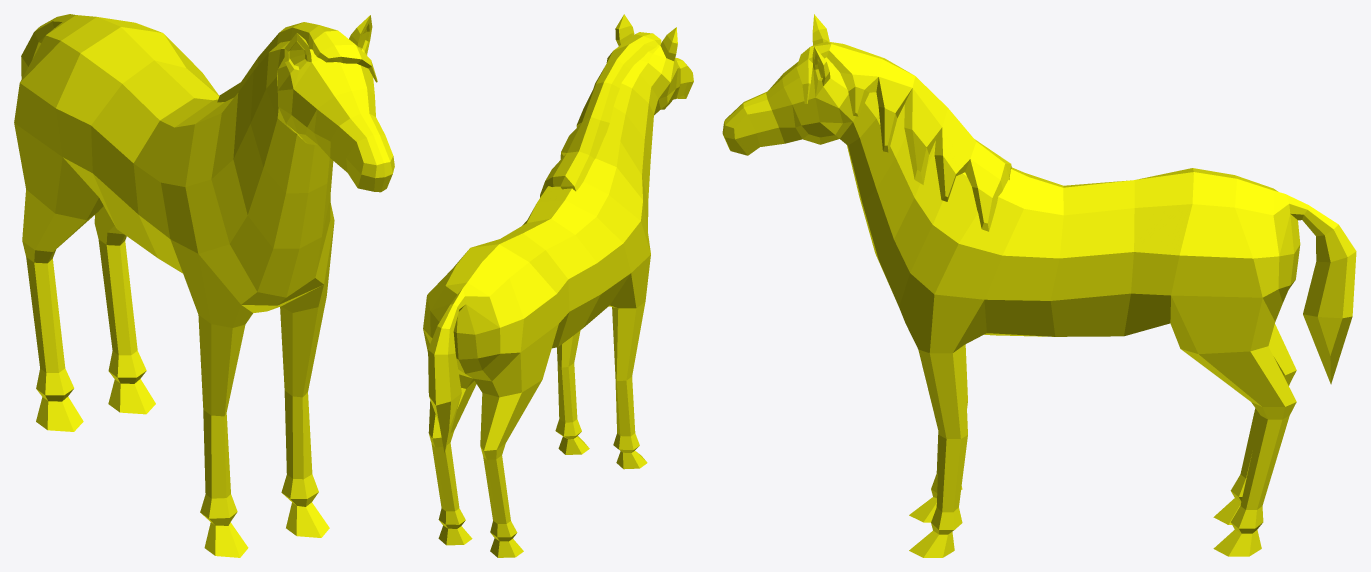
File: Horse.glb
The picture shows the model from 3 angles, left to right: view 1: azimuth 30°, elevation 25°; view 2: azimuth 150°, elevation 25°; view 3: azimuth 270°, elevation 25°; orthographic projection. The views are drawn at different scales.
Parts seen in each view (by area): view 1: WildHorse_mesh; view 2: WildHorse_mesh; view 3: WildHorse_mesh.
Boxes of the visible parts, x1,y1,x2,y2 form: WildHorse_mesh: (14, 14, 394, 557); WildHorse_mesh: (423, 14, 693, 557); WildHorse_mesh: (722, 14, 1356, 557).
Bounding box in the file's own units: 3.49 × 12.82 × 14.65.
1 material, 1 textured.
